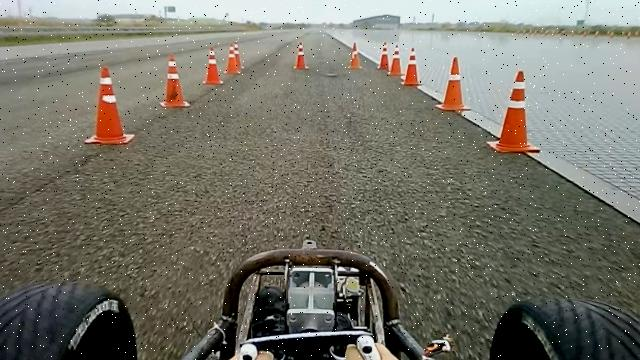red cone: (486, 69, 541, 154), (81, 64, 135, 148), (435, 55, 471, 113), (159, 53, 191, 108), (400, 47, 423, 86), (202, 46, 224, 85), (292, 40, 310, 70), (388, 43, 404, 76), (224, 44, 241, 74), (376, 40, 390, 70), (348, 42, 362, 70), (232, 42, 245, 70)
